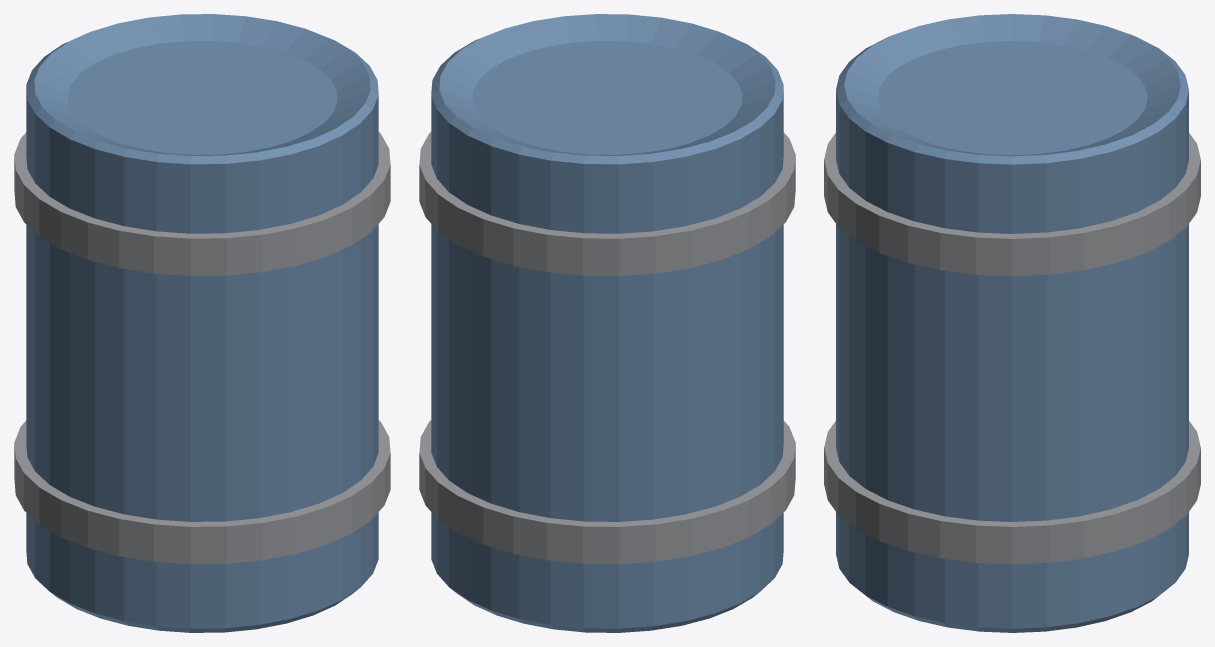
File: barrel.glb
3 renders of one model, left to right at view 1: azimuth 30°, elevation 25°; view 2: azimuth 150°, elevation 25°; view 3: azimuth 270°, elevation 25°, orthographic.
Visible parts, largest first — view 1: Barrel; view 2: Barrel; view 3: Barrel.
Boxes of the visible parts, x1,y1,x2,y2 form: Barrel: [14, 14, 390, 632]; Barrel: [419, 14, 795, 632]; Barrel: [824, 14, 1200, 632].
Bounding box in the file's own units: 0.64 × 0.8941 × 0.64.
